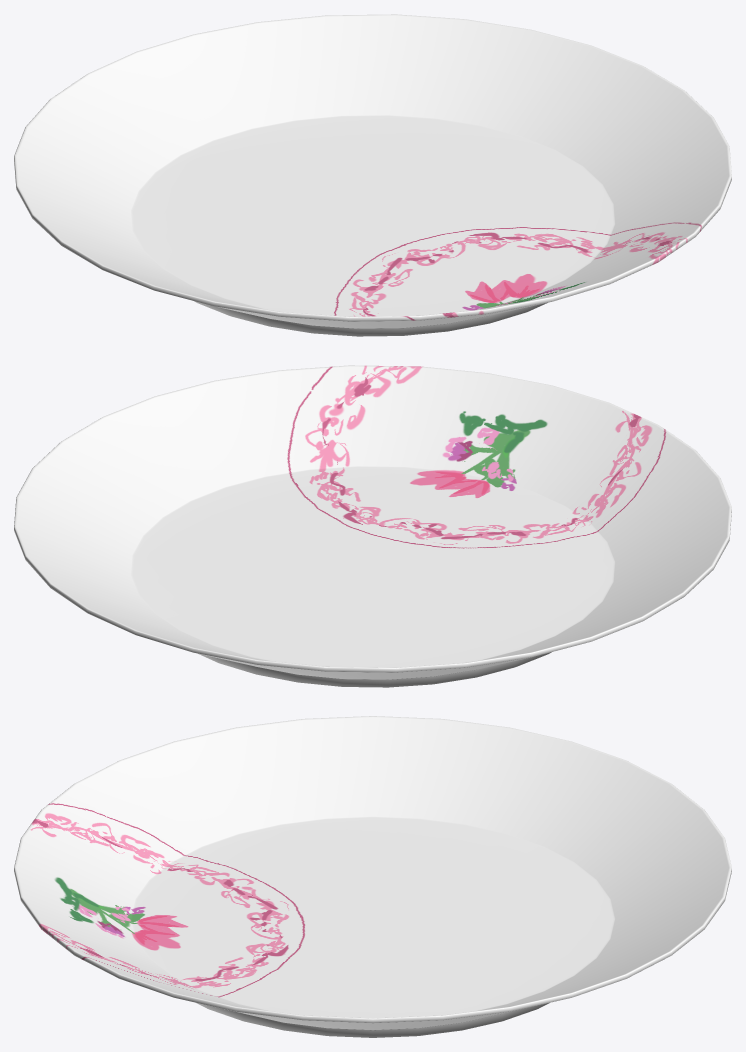
The model's file is disk.fbx.
3 views of the same model, one above another, from view 1: azimuth 30°, elevation 25°; view 2: azimuth 150°, elevation 25°; view 3: azimuth 270°, elevation 25° (orthographic).
Visible parts, largest first — view 1: Cylinder; view 2: Cylinder; view 3: Cylinder.
Boxes of the visible parts, x1,y1,x2,y2 form: Cylinder: [14, 14, 731, 336]; Cylinder: [14, 365, 731, 687]; Cylinder: [14, 716, 731, 1037].
Bounding box in the file's own units: 0.2 × 0.0222 × 0.2.
